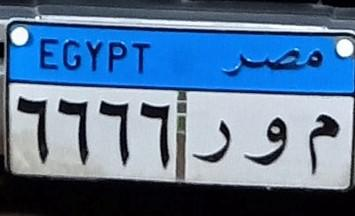6: (11, 86, 54, 164), (91, 99, 132, 166), (137, 98, 172, 172), (56, 95, 91, 168)
ر: (193, 106, 240, 170)
م: (297, 111, 351, 178)
و: (240, 108, 298, 173)
